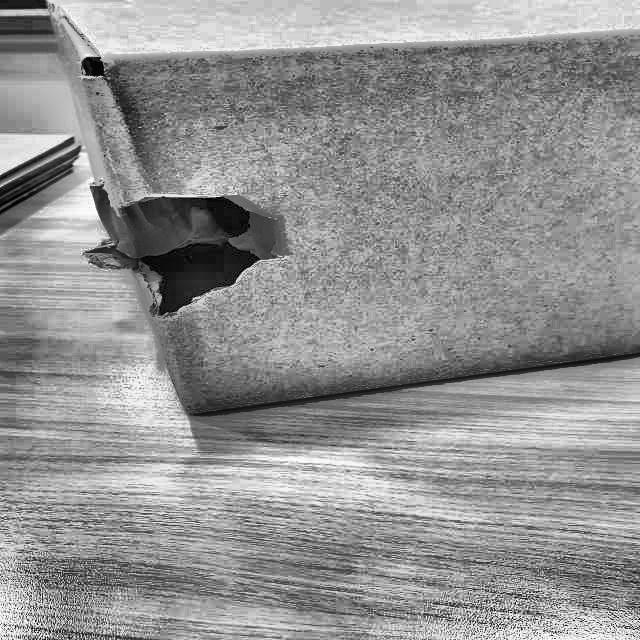box: (39, 0, 639, 427)
hole: (92, 182, 308, 328)
